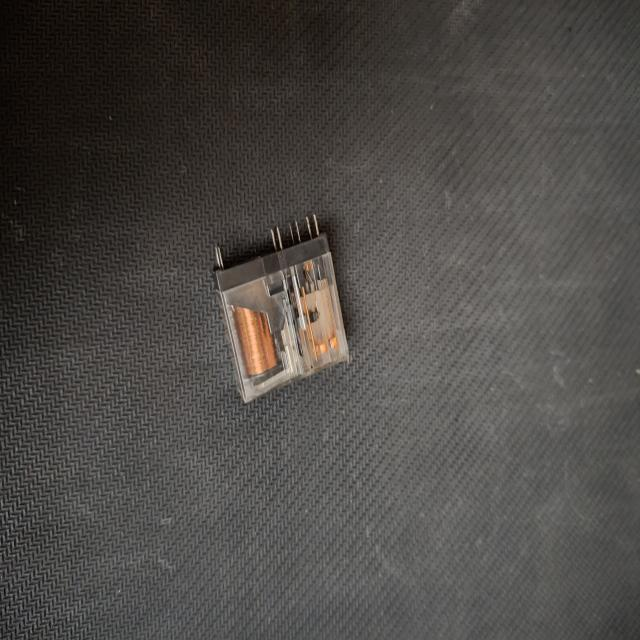relay: (209, 205, 355, 412)
